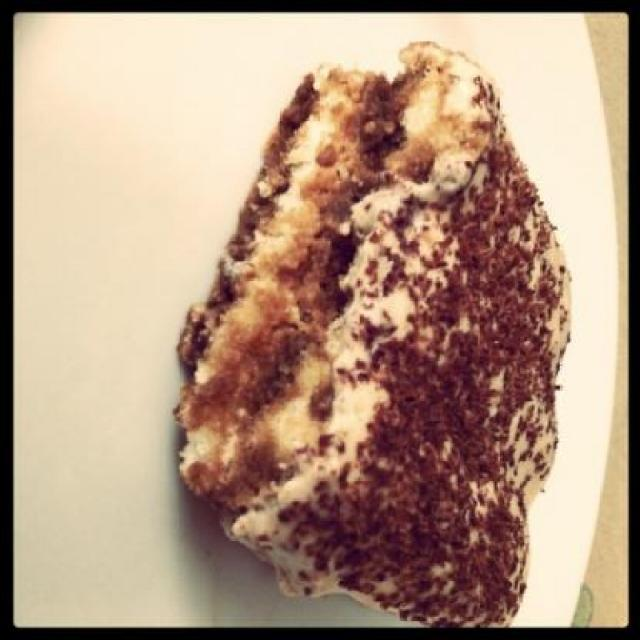Tiramisu: (178, 65, 596, 601)
